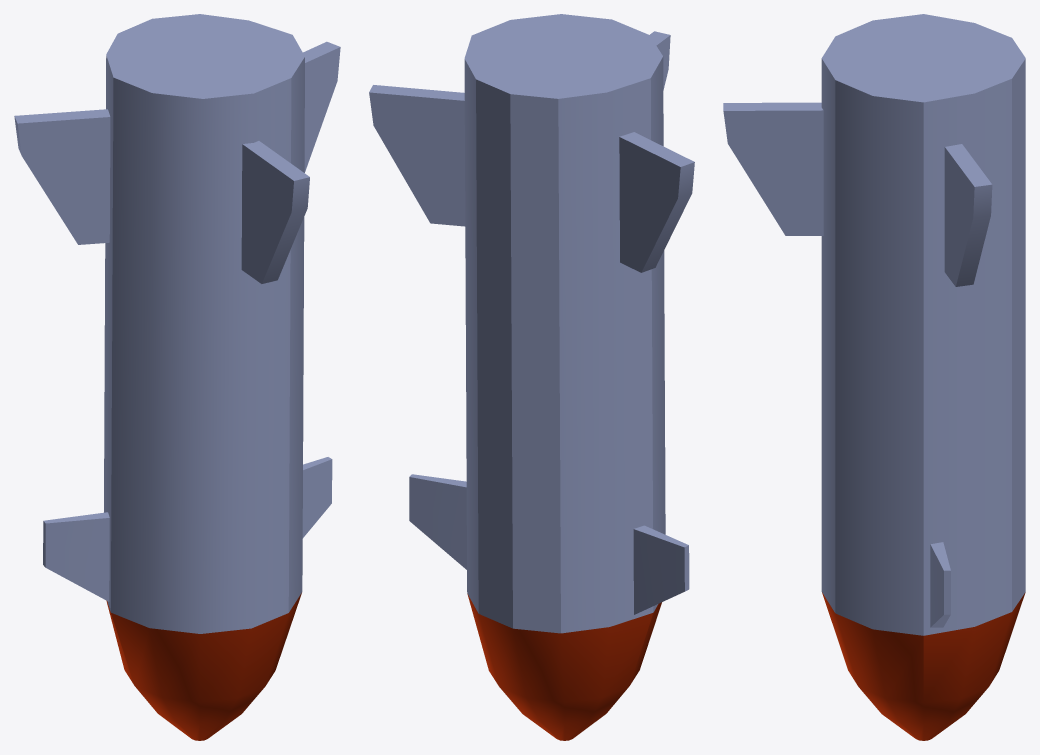
Rendered from rocket.fbx.
The picture shows the model from 3 angles, left to right: view 1: azimuth 30°, elevation 25°; view 2: azimuth 150°, elevation 25°; view 3: azimuth 270°, elevation 25°; orthographic projection.
Visible parts, largest first — view 1: Cylinder; view 2: Cylinder; view 3: Cylinder.
Part boxes in pixels (x1,y1,x2,y2): Cylinder: [14, 14, 340, 740]; Cylinder: [369, 14, 694, 740]; Cylinder: [723, 14, 1025, 740].
Size of the model in its own units: 7304 by 14725 by 5930.
